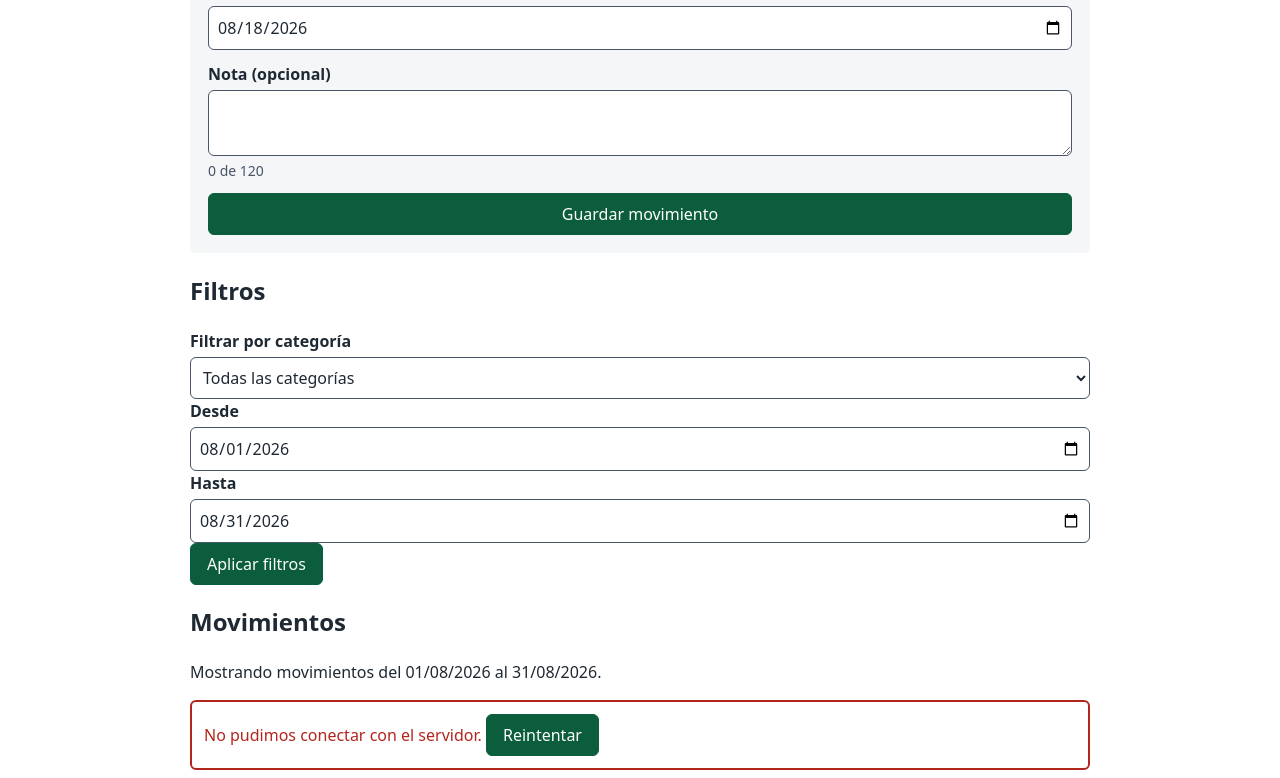
FiltrosMovimientos › Filtros_ConRedCaida_MuestraElErrorConReintento
(page scrolled)
Check: the message shows "No pudimos conectar con el servidor.", box 204,724 -> 482,746
Click the button "Reintentar" at (542, 735), box 486,714 -> 599,756
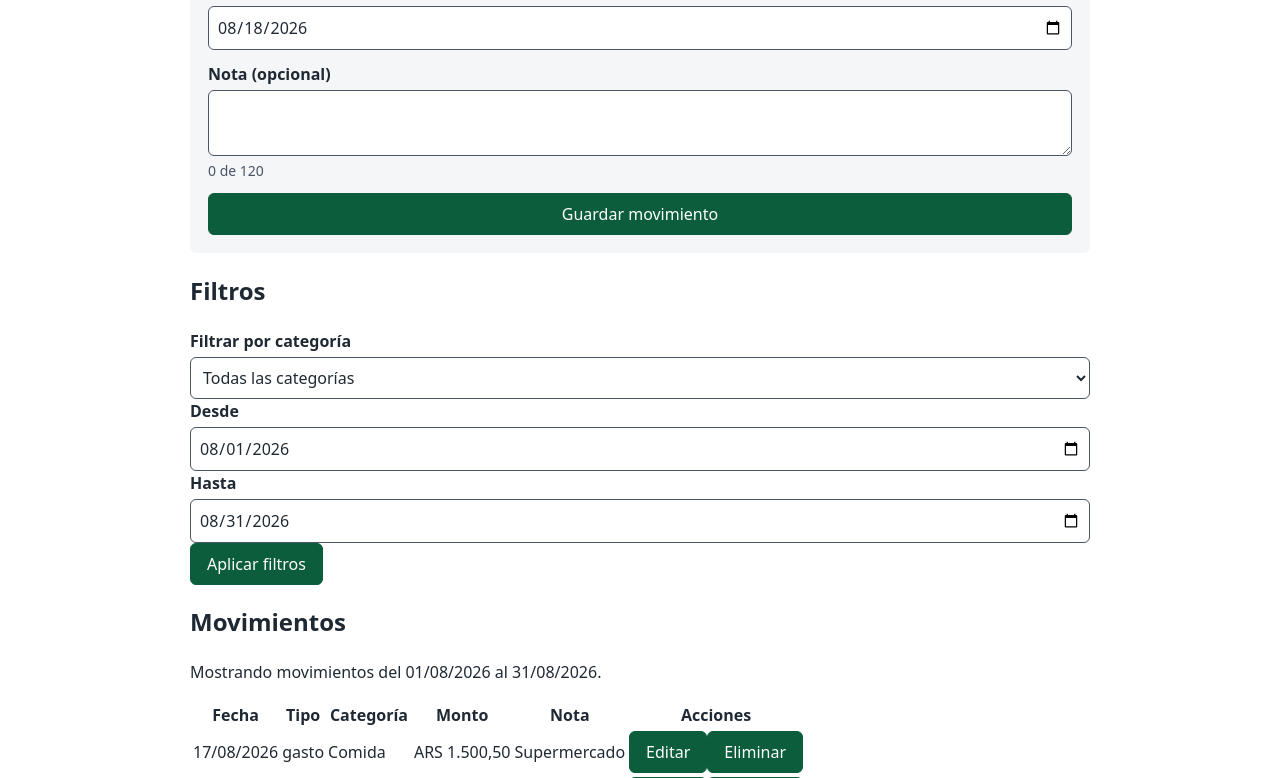
Check: the text "Supermercado" is shown, box 514,730 -> 626,774
